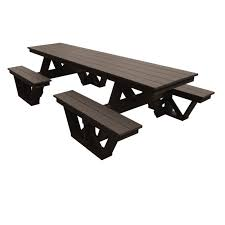obstacle: (9, 39, 215, 159)
